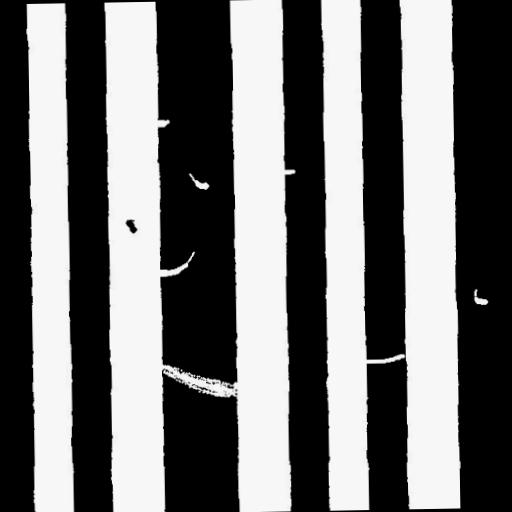copper: (118, 212, 144, 240)
mousebite: (147, 244, 203, 284), (146, 112, 176, 134), (272, 162, 302, 182)
open: (150, 355, 248, 406), (352, 346, 412, 372)
pin-hole: (180, 164, 216, 198), (466, 280, 496, 312)
